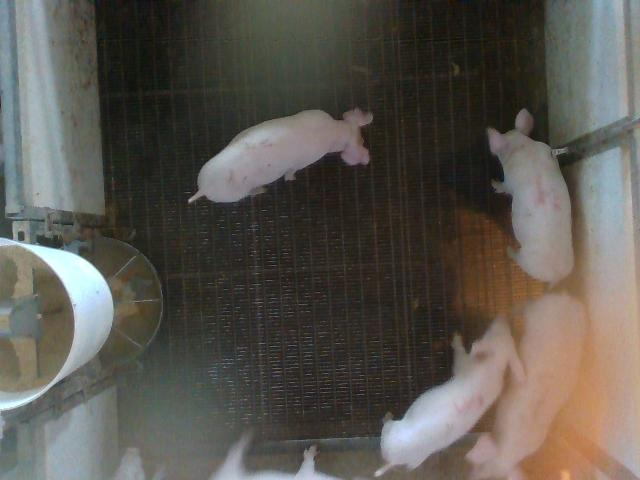pig-3: (470, 292, 586, 478)
pig-4: (488, 109, 574, 286)
pig-5: (375, 316, 524, 476)
